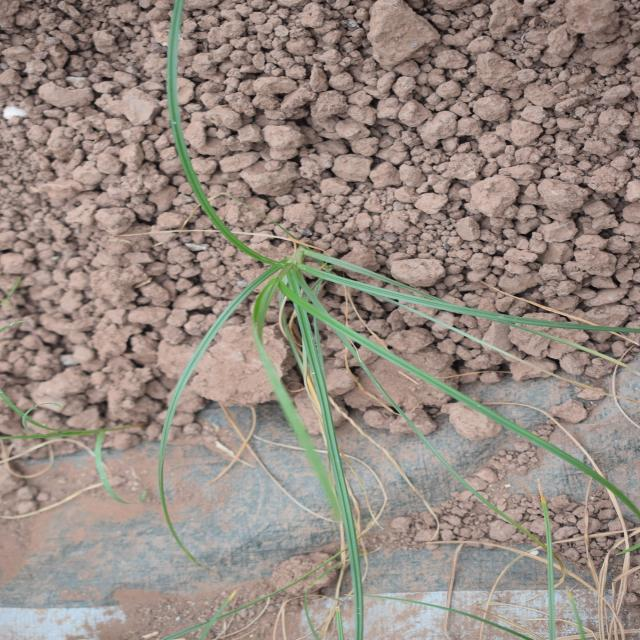sedge: (59, 103, 528, 555)
